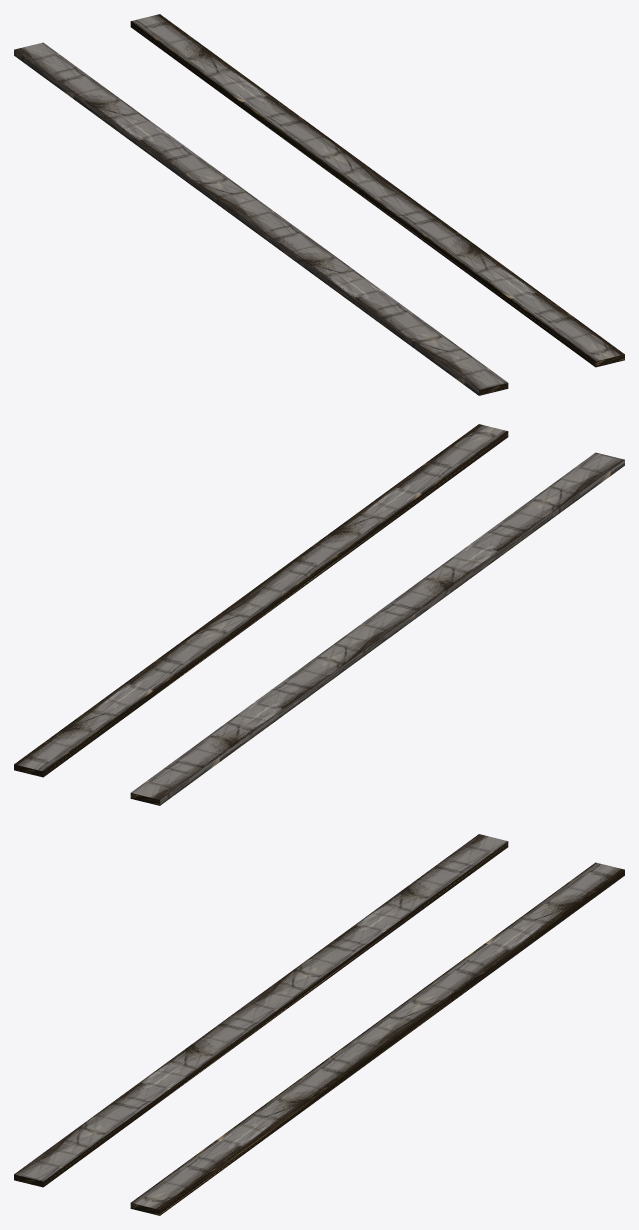
Rendered from SM_curbs.fbx.
3 renders of one model, top to bottom at view 1: azimuth 30°, elevation 25°; view 2: azimuth 150°, elevation 25°; view 3: azimuth 330°, elevation 25°, orthographic.
Visible parts, largest first — view 1: SM_curbR; view 2: SM_curbR; view 3: SM_curbR.
Boxes of the visible parts, left/top/right/bottom form: SM_curbR: left=14, top=14, right=624, bottom=395; SM_curbR: left=14, top=424, right=624, bottom=805; SM_curbR: left=14, top=834, right=624, bottom=1215.
Bounding box in the file's own units: 313 × 12.11 × 1726.
